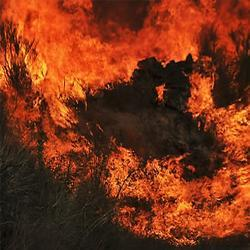fire: (17, 2, 92, 77), (174, 179, 247, 233), (107, 34, 193, 61)
